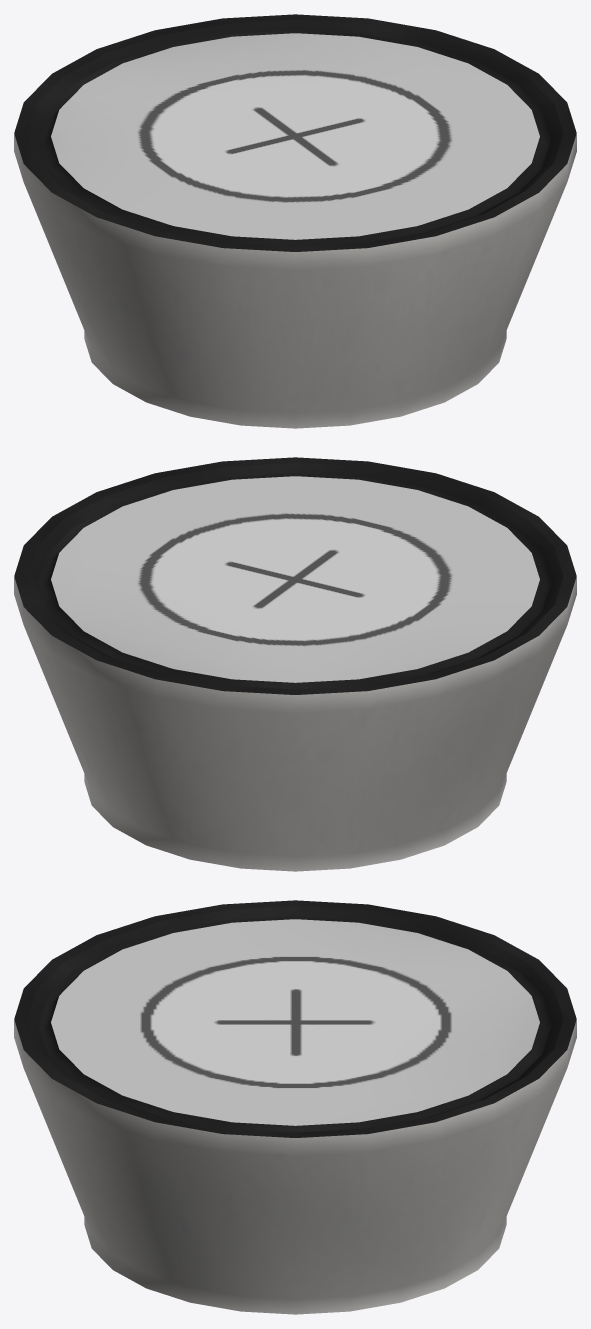
File: adapter.fbx
The picture shows the model from 3 angles, top to bottom: view 1: azimuth 30°, elevation 25°; view 2: azimuth 150°, elevation 25°; view 3: azimuth 270°, elevation 25°; orthographic projection.
Parts seen in each view (by area): view 1: adapter; view 2: adapter; view 3: adapter.
Boxes of the visible parts, x1,y1,x2,y2 form: adapter: (14, 14, 576, 428); adapter: (14, 457, 576, 871); adapter: (14, 900, 576, 1314).
Size of what is drawn, in the model's own units: 5 by 2.02 by 5.
1 material, 1 textured.
